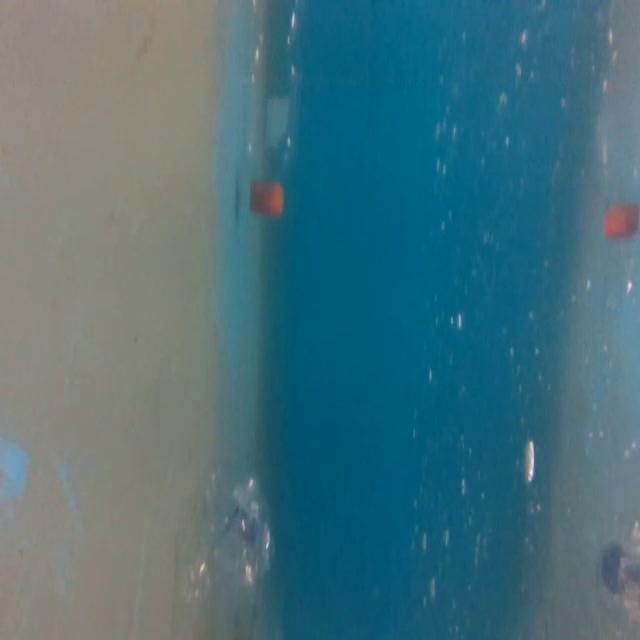plastic bags: (168, 461, 282, 604)
plastic bottle: (237, 0, 312, 219)
